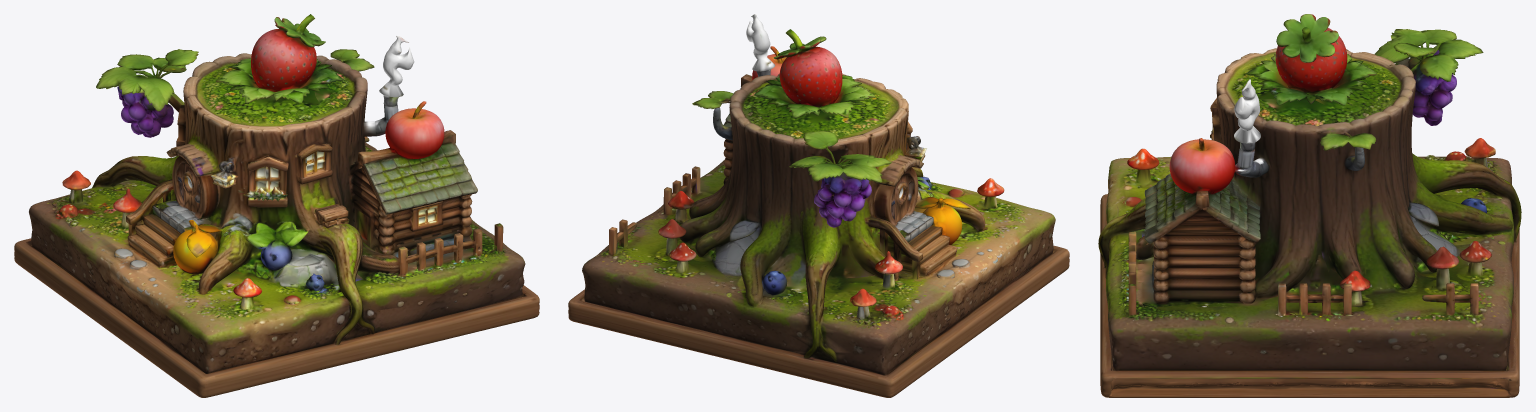
File: house.glb
3 views of the same model, side by side, from view 1: azimuth 30°, elevation 25°; view 2: azimuth 150°, elevation 25°; view 3: azimuth 270°, elevation 25° (orthographic). The views are drawn at different scales.
Visible parts, largest first — view 1: node_0; view 2: node_0; view 3: node_0.
Part boxes in pixels (x1,y1,x2,y2): node_0: [14, 14, 539, 397]; node_0: [568, 14, 1069, 397]; node_0: [1098, 14, 1521, 397].
Size of the model in its own units: 0.7701 by 0.5813 by 0.748.
1 material, 1 textured.
